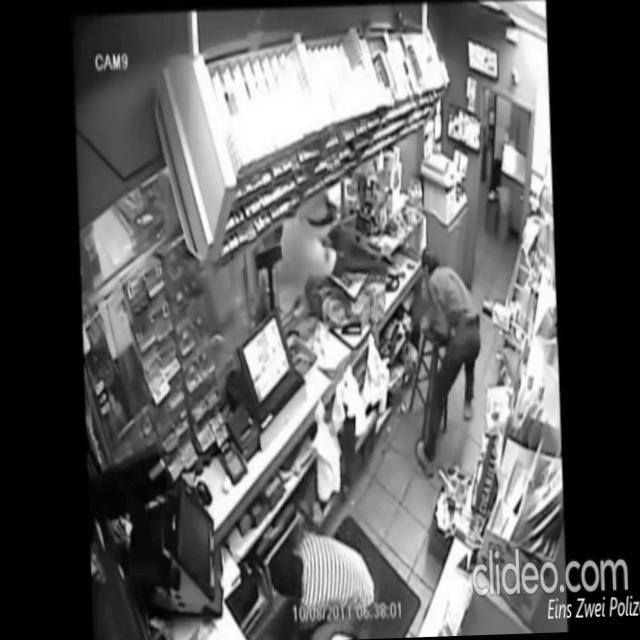gun: (377, 250, 402, 280)
person: (410, 244, 487, 476), (266, 525, 377, 640)
person with a gun: (268, 182, 404, 316)
